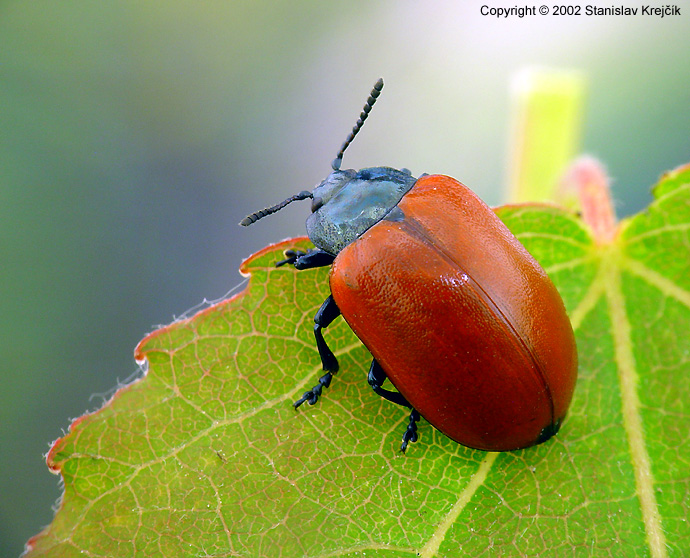Chrysomela_populi: (230, 70, 588, 458)
